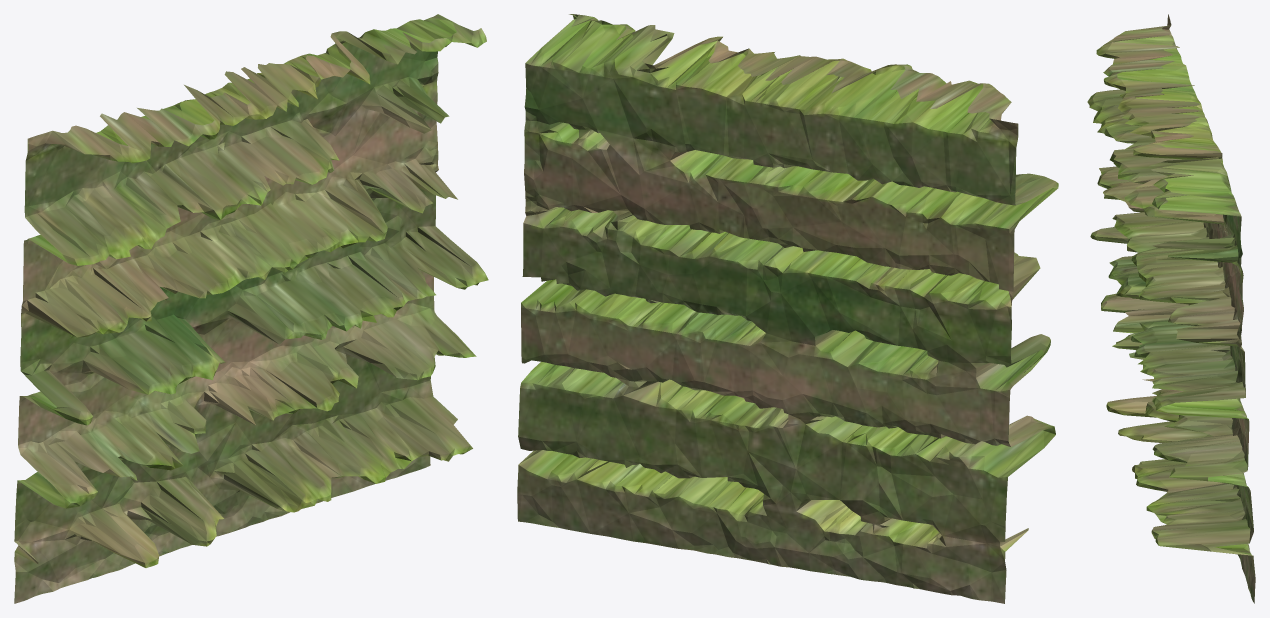
File: map_200_40.obj
3 renders of one model, left to right at view 1: azimuth 30°, elevation 25°; view 2: azimuth 150°, elevation 25°; view 3: azimuth 270°, elevation 25°, orthographic. The views are drawn at different scales.
Parts seen in each view (by area): view 1: grp1; view 2: grp1; view 3: grp1.
Part boxes in pixels (x1,y1,x2,y2): grp1: (14, 14, 488, 603); grp1: (517, 14, 1058, 603); grp1: (1087, 14, 1255, 603).
Bounding box in the file's own units: 10 × 10 × 3.79.
1 material, 1 textured.
